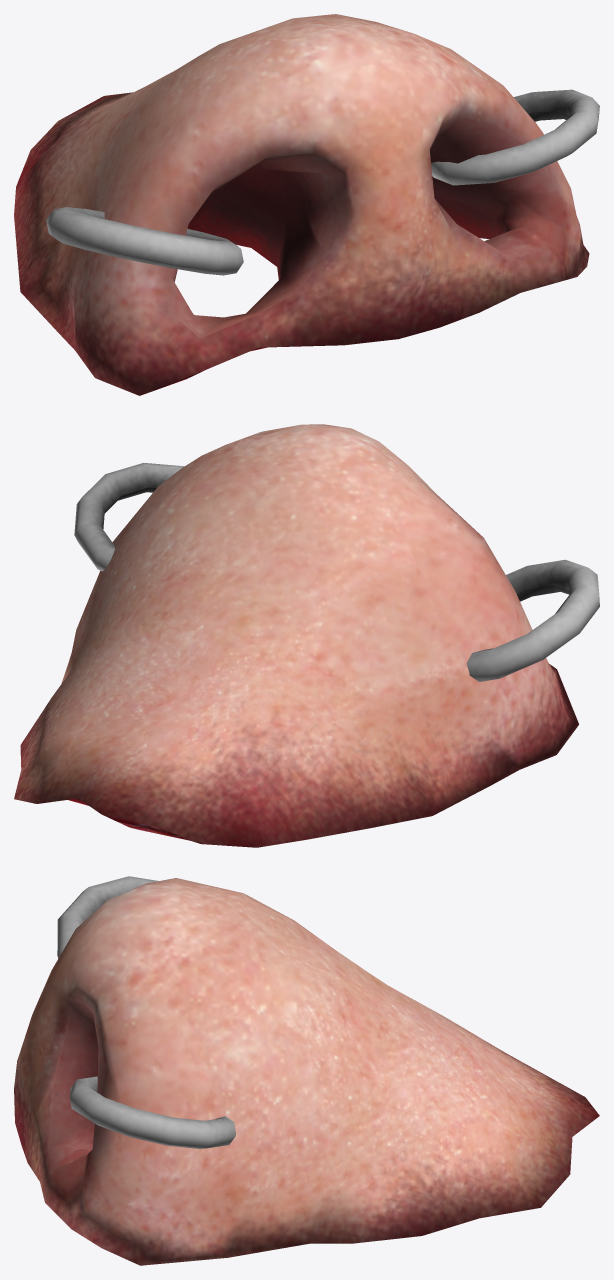
The model's file is Nose_2.fbx.
3 renders of one model, top to bottom at view 1: azimuth 30°, elevation 25°; view 2: azimuth 150°, elevation 25°; view 3: azimuth 270°, elevation 25°, orthographic. The views are drawn at different scales.
Parts seen in each view (by area): view 1: nose_2, Ring_nose_1, Ring_nose_2; view 2: nose_2, Ring_nose_1, Ring_nose_2; view 3: nose_2, Ring_nose_2, Ring_nose_1.
Part boxes in pixels (x1=…): nose_2: x1=14, y1=14, x2=589, y2=395; Ring_nose_1: x1=46, y1=207, x2=243, y2=275; Ring_nose_2: x1=431, y1=89, x2=599, y2=185; nose_2: x1=14, y1=424, x2=578, y2=847; Ring_nose_1: x1=466, y1=559, x2=599, y2=681; Ring_nose_2: x1=74, y1=463, x2=184, y2=571; nose_2: x1=14, y1=878, x2=599, y2=1265; Ring_nose_2: x1=70, y1=1076, x2=235, y2=1148; Ring_nose_1: x1=57, y1=876, x2=158, y2=958.
Size of the model in its own units: 0.0455 by 0.0236 by 0.0461.
